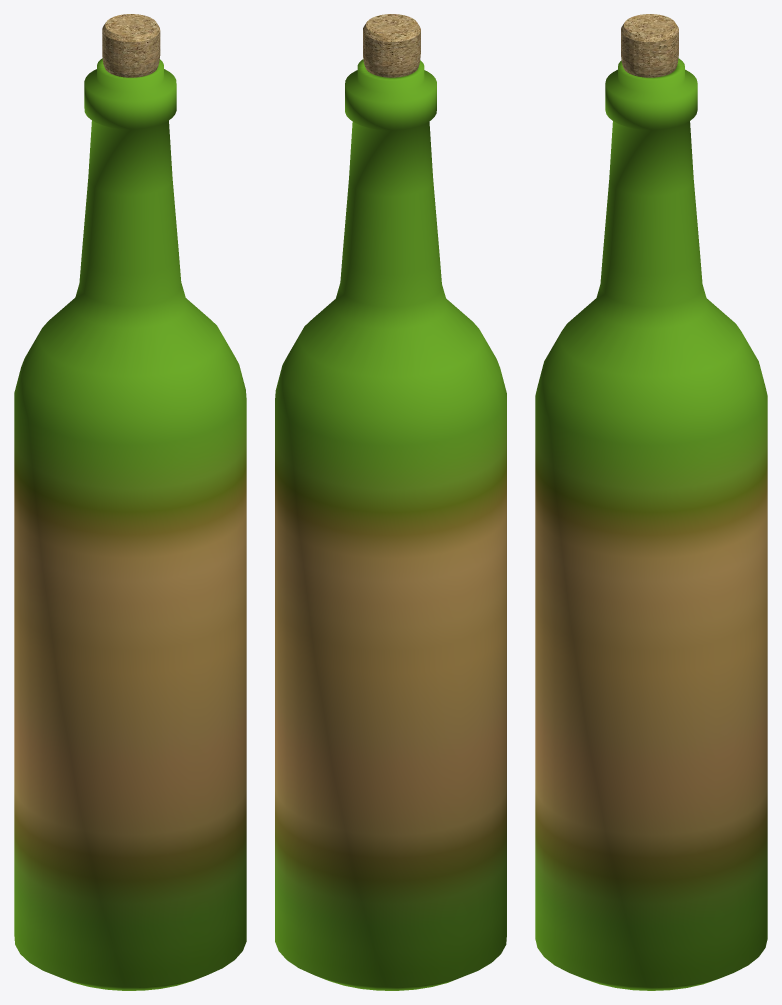
The model's file is wine bottle.fbx.
3 renders of one model, left to right at view 1: azimuth 30°, elevation 25°; view 2: azimuth 150°, elevation 25°; view 3: azimuth 270°, elevation 25°, orthographic.
Parts seen in each view (by area): view 1: wine bottle; view 2: wine bottle; view 3: wine bottle.
Part boxes in pixels (left/top/right/bottom): wine bottle: left=14, top=14, right=246, bottom=990; wine bottle: left=275, top=14, right=506, bottom=990; wine bottle: left=535, top=14, right=767, bottom=990.
Bounding box in the file's own units: 320 × 1407 × 320.
1 material, 1 textured.
